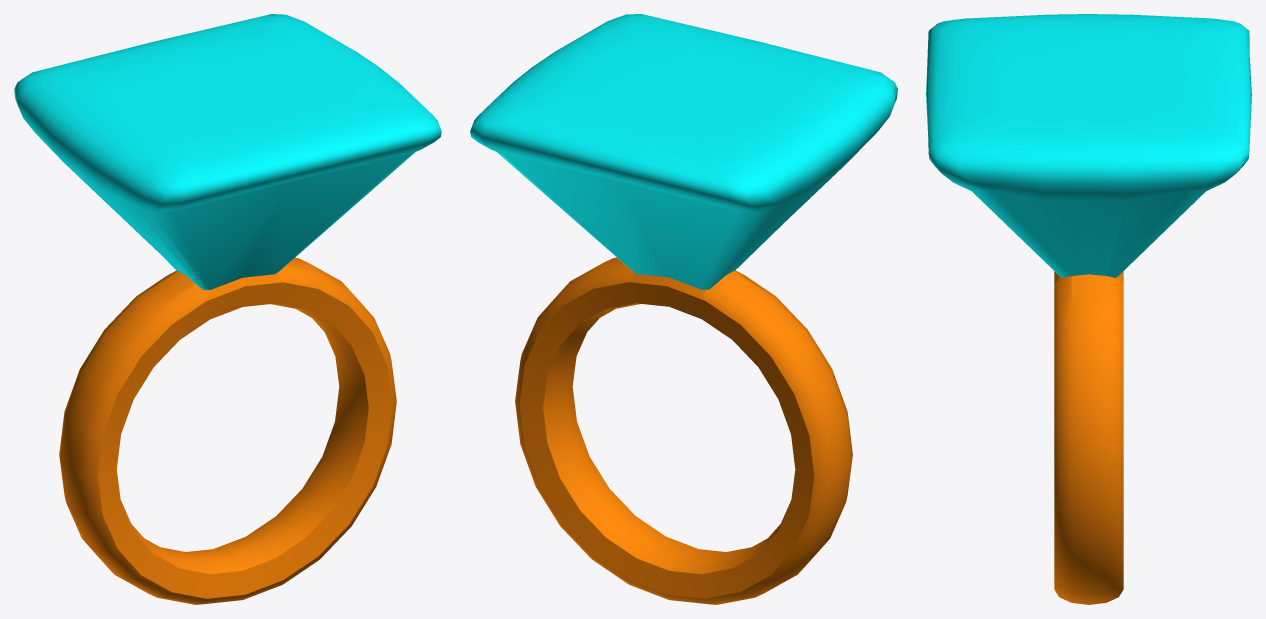
The model's file is ANILLO.fbx.
3 renders of one model, left to right at view 1: azimuth 30°, elevation 25°; view 2: azimuth 150°, elevation 25°; view 3: azimuth 270°, elevation 25°, orthographic.
Visible parts, largest first — view 1: Torus001; view 2: Torus001; view 3: Torus001.
Boxes of the visible parts, left/top/right/bottom form: Torus001: left=14, top=14, right=441, bottom=604; Torus001: left=470, top=14, right=897, bottom=604; Torus001: left=926, top=14, right=1251, bottom=604.
Bounding box in the file's own units: 0.2116 × 0.318 × 0.1837.
